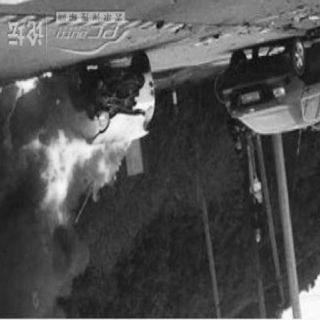Fire: (7, 70, 130, 247)
Smoke: (7, 248, 89, 316)
